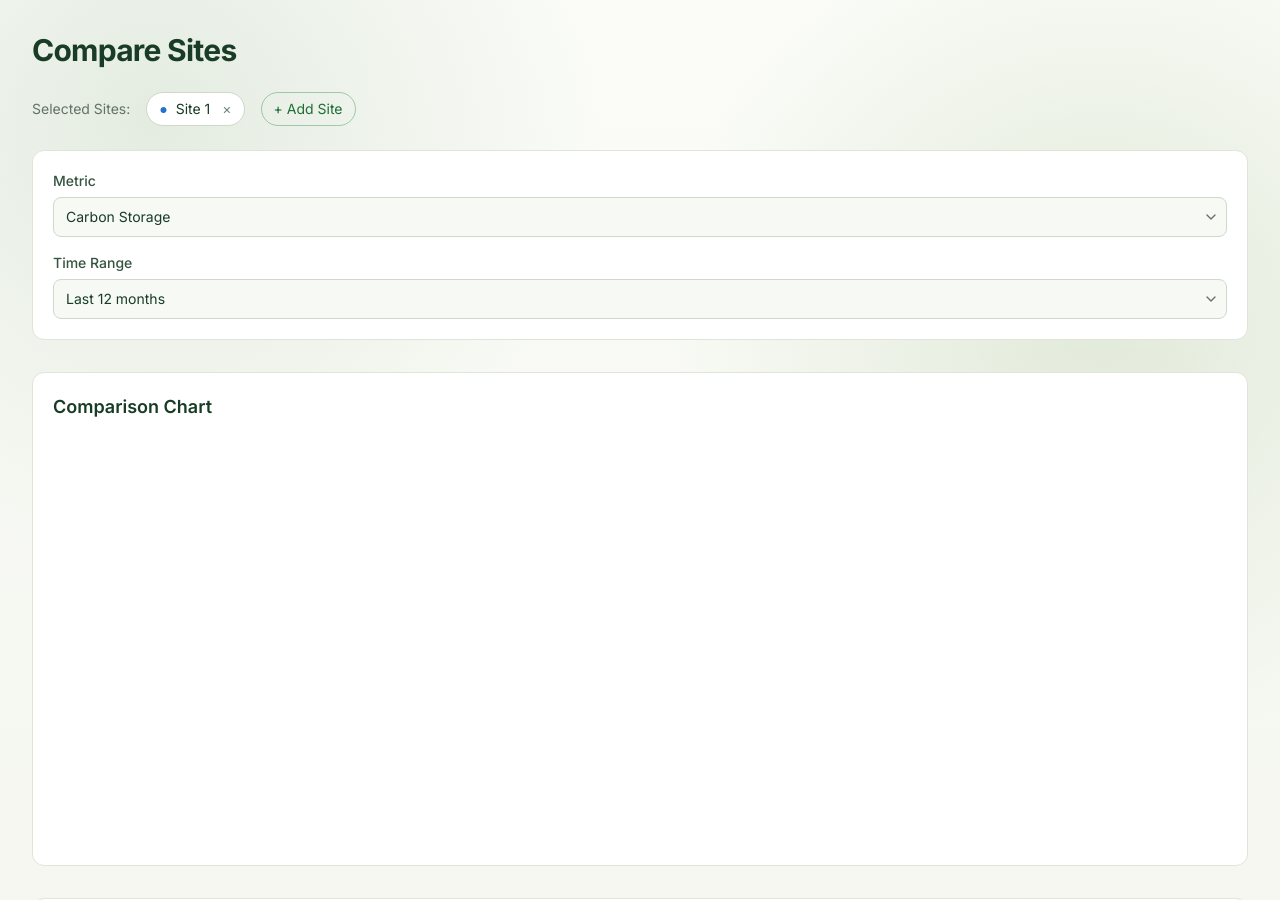
Scenario: ComparePage › removes site successfully when clicking remove
Expected: the text "Site 1" is shown, [176,99,210,119]
Step 1. Click the button named "Remove Site 1" → click(227, 109), box [222,99,232,119]
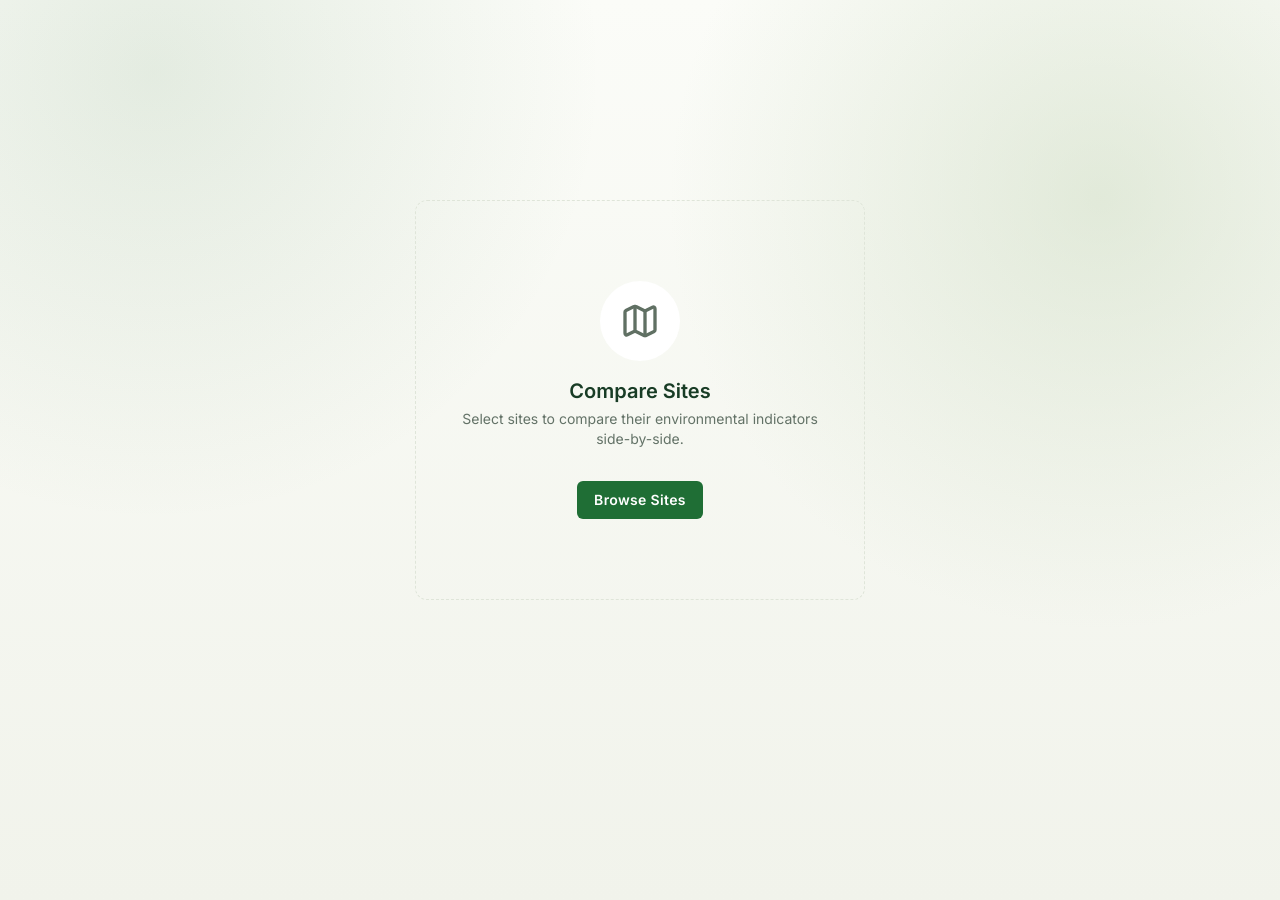
Result: the text "Select sites to compare" is shown at [462,410,818,447]
